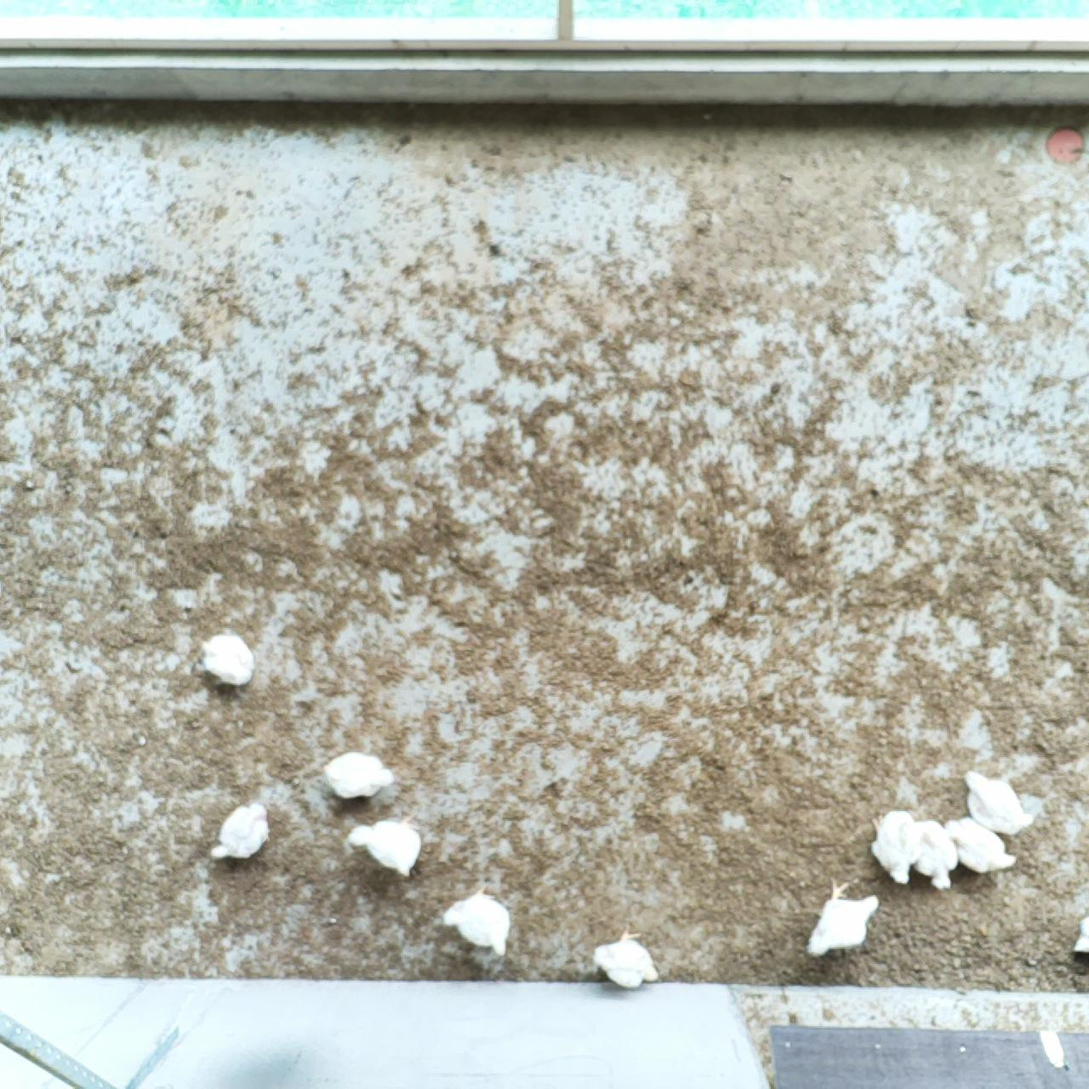chicken: (805, 875, 881, 960), (440, 883, 513, 959), (960, 768, 1036, 837), (590, 921, 662, 989), (345, 820, 426, 877), (943, 816, 1019, 875), (871, 808, 924, 886), (323, 748, 396, 801), (211, 800, 274, 861), (198, 627, 258, 687), (911, 818, 958, 892)
